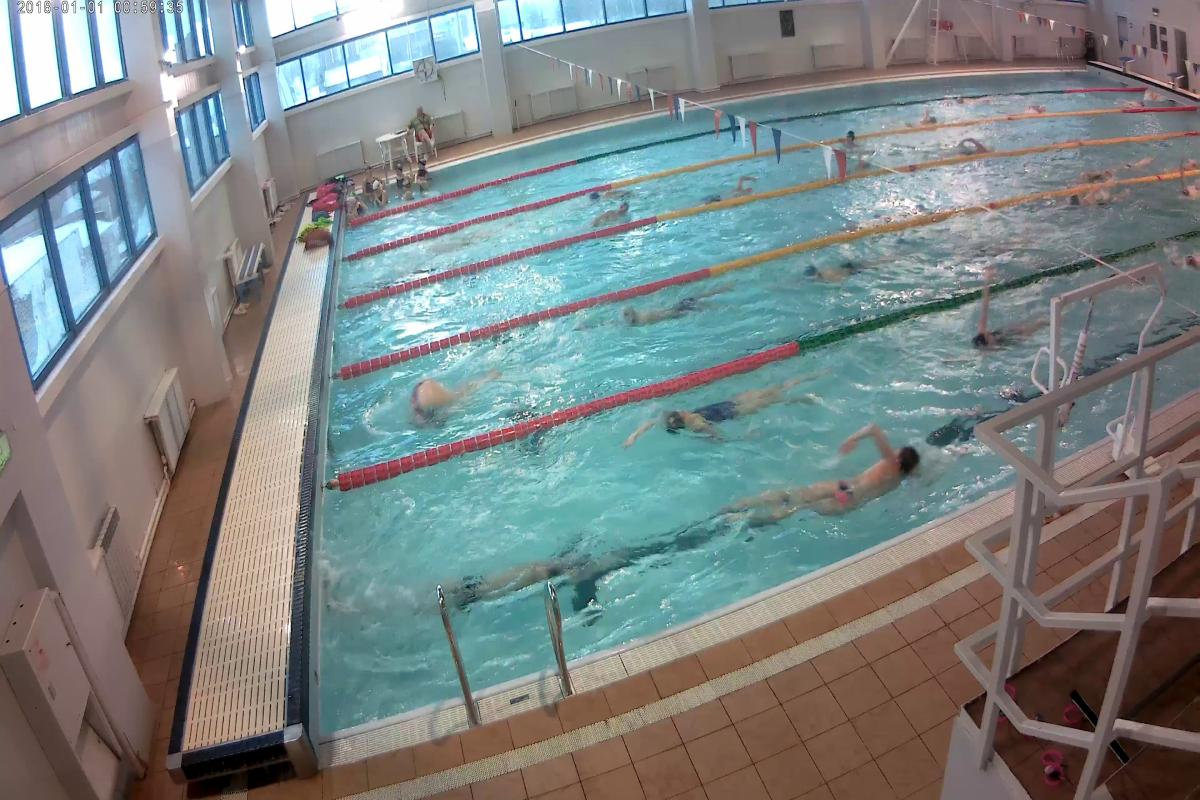swimmer: (744, 446, 917, 520), (413, 540, 602, 604), (627, 380, 818, 442), (406, 371, 527, 429), (963, 298, 1051, 351), (616, 287, 742, 319), (798, 254, 907, 287)
